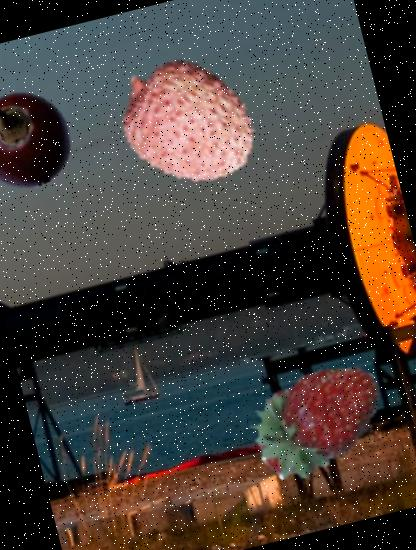Lychee: (98, 36, 274, 212)
Strawberry: (231, 331, 400, 501)
Tamarillo: (0, 78, 85, 200)
